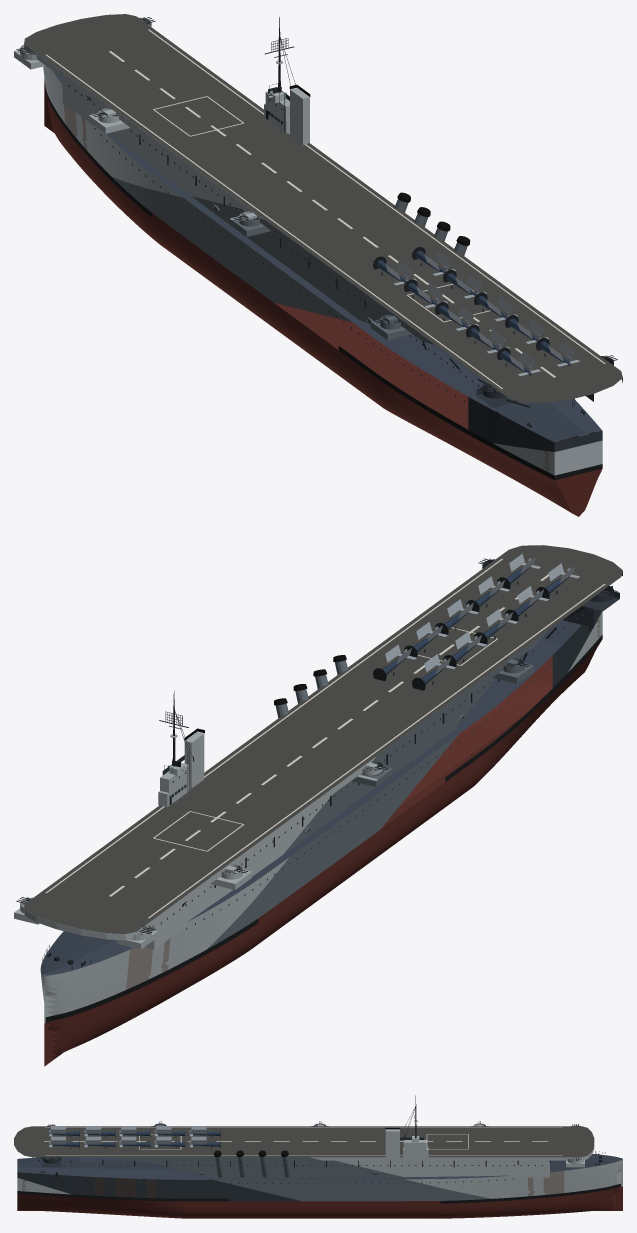
The model's file is independence_m22.glb.
3 renders of one model, top to bottom at view 1: azimuth 30°, elevation 25°; view 2: azimuth 150°, elevation 25°; view 3: azimuth 270°, elevation 25°, orthographic. The views are drawn at different scales.
Parts seen in each view (by area): view 1: Hull; view 2: Hull; view 3: Hull, Park6, Park4, Park8, Park10, Park2, Park5, Park3, Park9, Park7, Park1.
Boxes of the visible parts, bbox=[...] form: Hull: bbox=[14, 14, 622, 516]; Hull: bbox=[14, 545, 622, 1066]; Hull: bbox=[14, 1095, 622, 1218]; Park6: bbox=[119, 1136, 150, 1148]; Park4: bbox=[84, 1136, 115, 1148]; Park8: bbox=[154, 1136, 185, 1148]; Park10: bbox=[189, 1136, 220, 1148]; Park2: bbox=[49, 1136, 79, 1148]; Park5: bbox=[119, 1126, 150, 1137]; Park3: bbox=[84, 1126, 115, 1137]; Park9: bbox=[189, 1126, 220, 1137]; Park7: bbox=[154, 1126, 185, 1137]; Park1: bbox=[49, 1126, 79, 1137].
Bounding box in the file's own units: 29.56 × 45 × 191.
